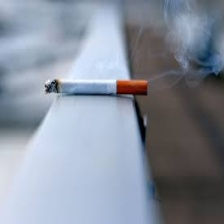smoke: (162, 2, 223, 73)
